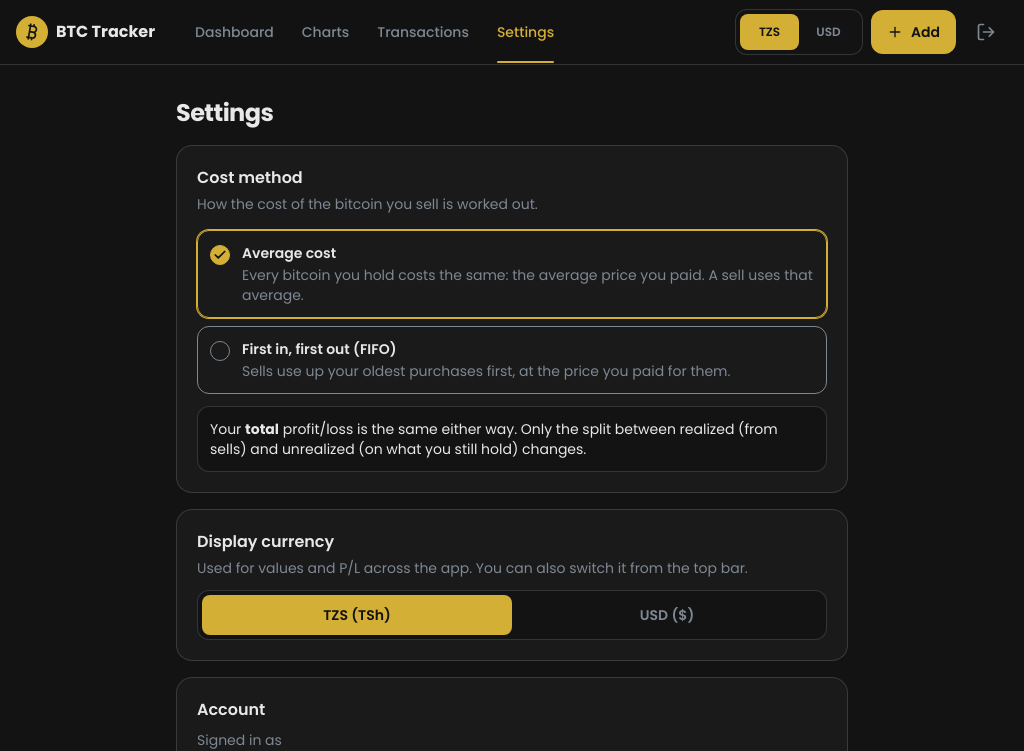
Test case: log out › asks first; "No" keeps you signed in
Step 1. Click the button named "Log out" → click(986, 32), box left=964, top=10, right=1008, bottom=54
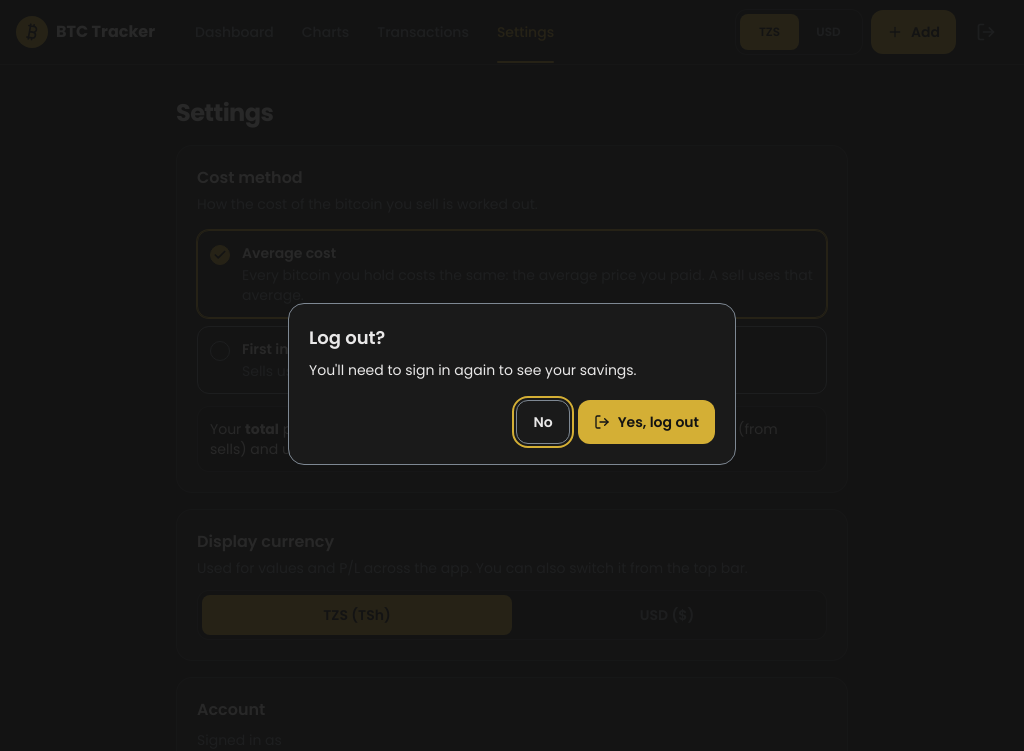
Step 2. Click the button "No" → click(543, 422), box left=516, top=400, right=570, bottom=444
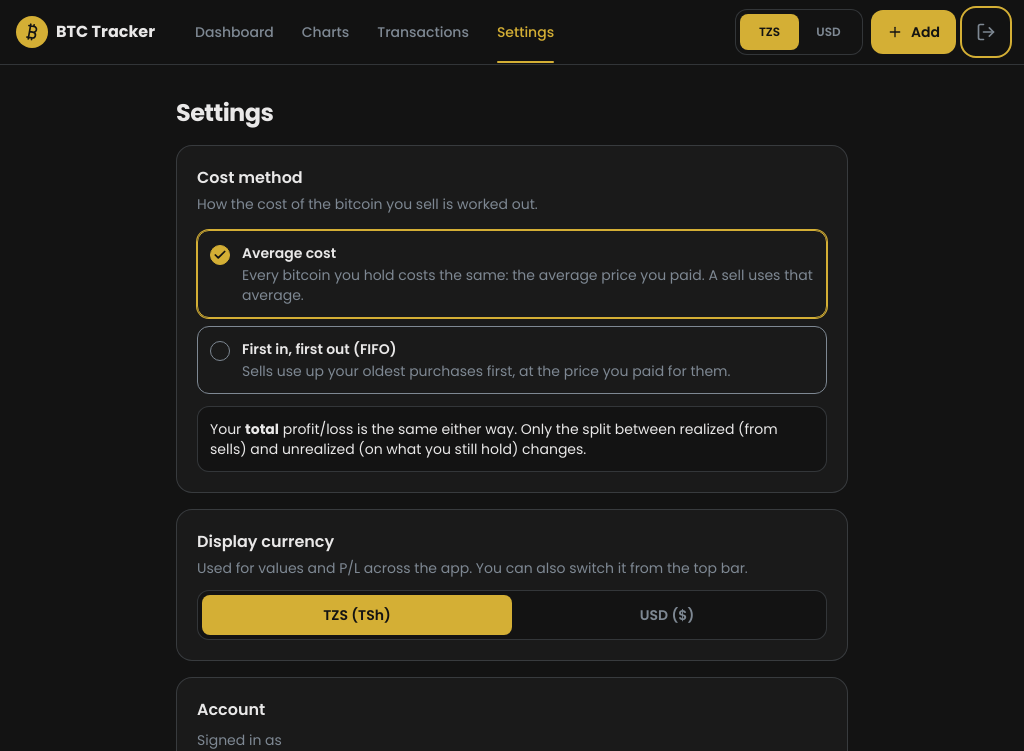
Expected: the heading "Settings" is shown, left=176, top=97, right=273, bottom=129
Expected: the dialog is gone
